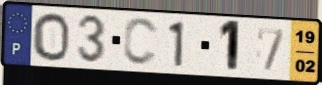1: (217, 19, 241, 76), (166, 21, 189, 69)
3: (75, 13, 108, 66)
7: (255, 26, 286, 72)
C: (121, 16, 161, 68)
O: (31, 11, 71, 63)
